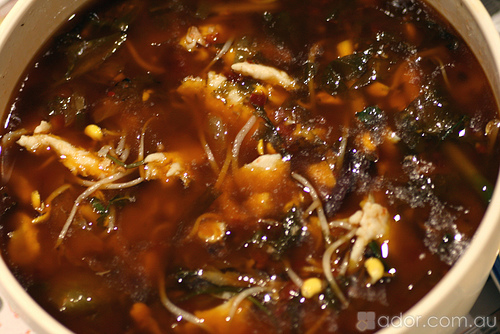fish: (0, 3, 499, 333)
